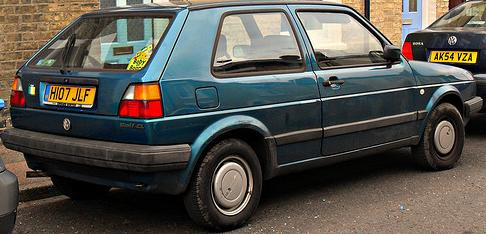back_view: (7, 55, 189, 196)
backlight: (111, 76, 179, 131)
side_glass: (212, 9, 402, 89)
